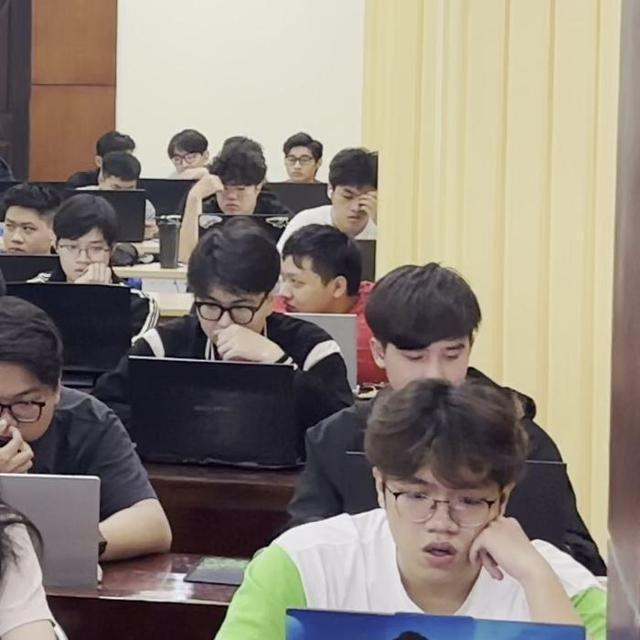Looking away: (378, 384, 510, 570), (185, 222, 271, 352), (0, 300, 65, 440), (284, 225, 362, 317), (54, 195, 115, 283), (326, 151, 383, 225), (209, 150, 265, 221), (2, 183, 57, 254), (170, 124, 215, 176)
Looking forward: (282, 132, 323, 180)
